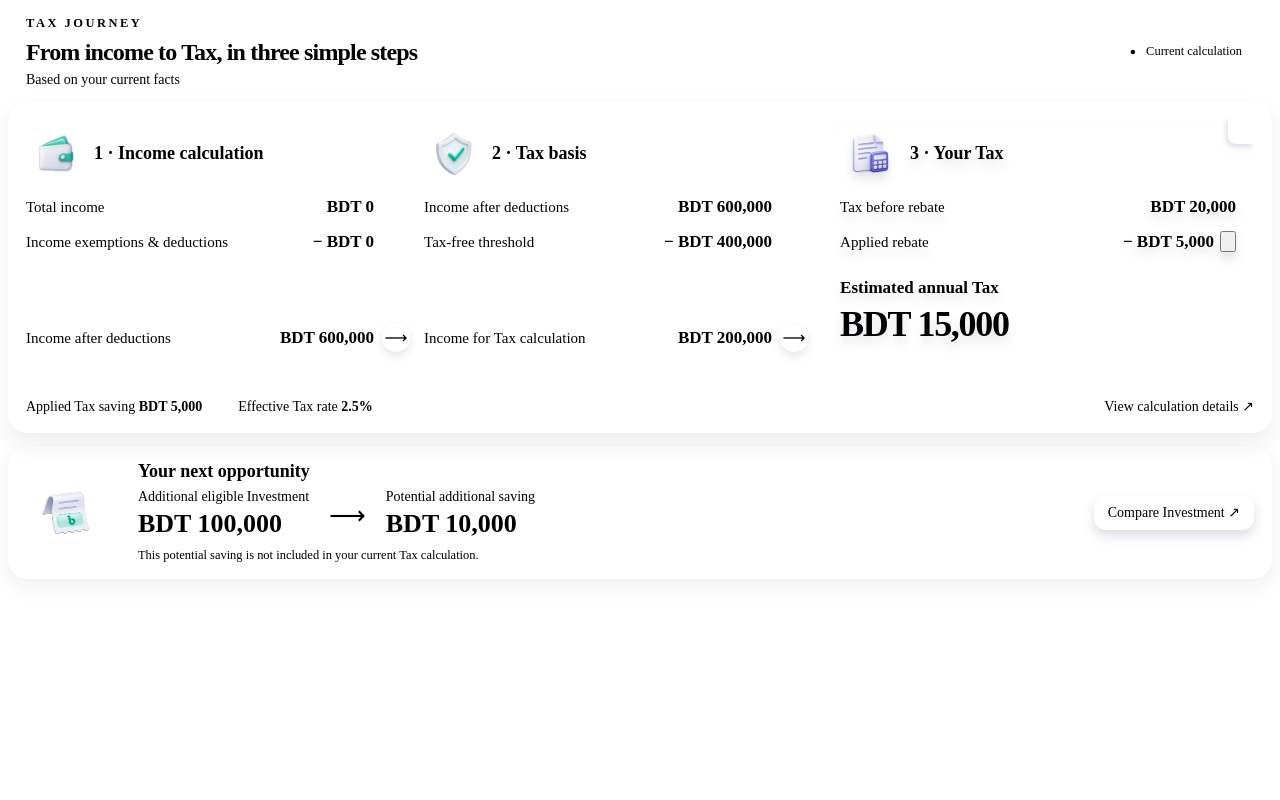
Test: restored tax presentation › reconciles the journey at eligible investment 50000
The image size is (1280, 800).
Click the button named "How your rebate is calculated": (1228, 242) [1220, 231, 1236, 252]
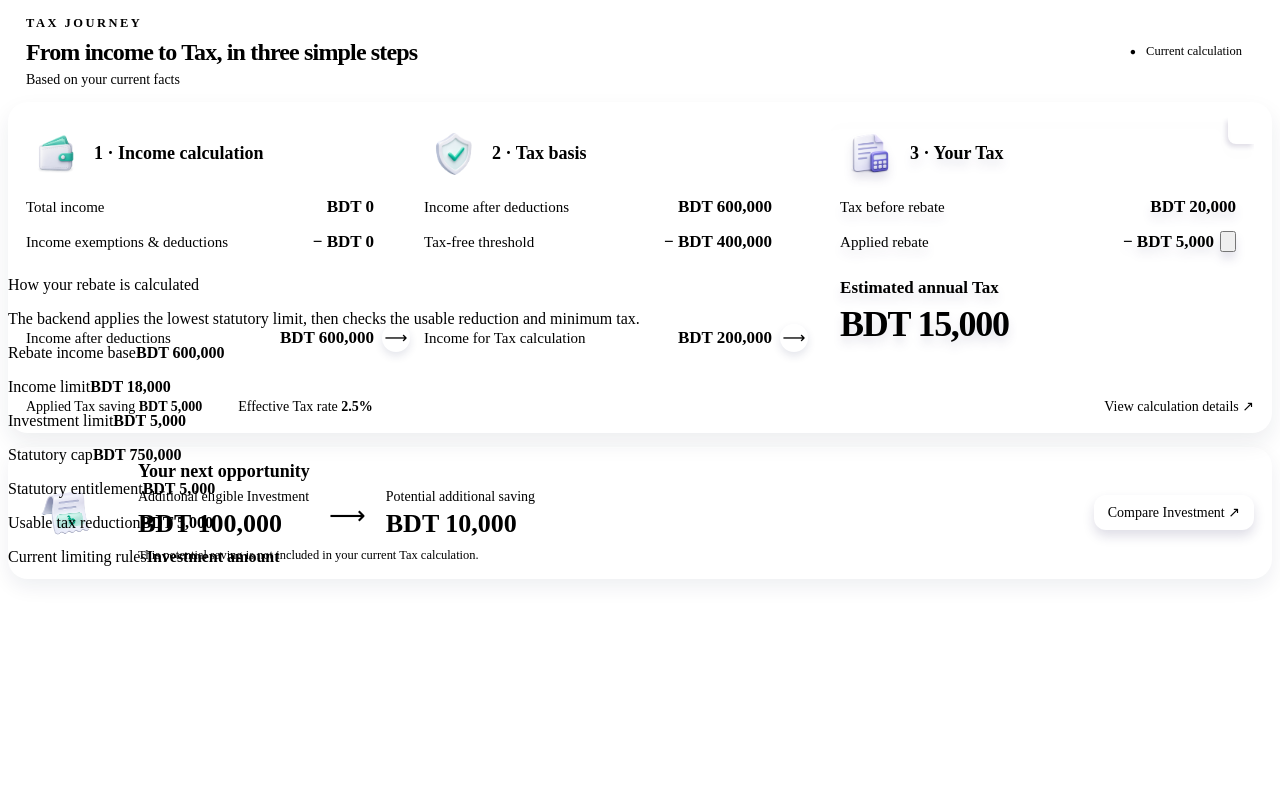
expect the text "Statutory entitlement" is shown: met, box [8, 480, 143, 497]
